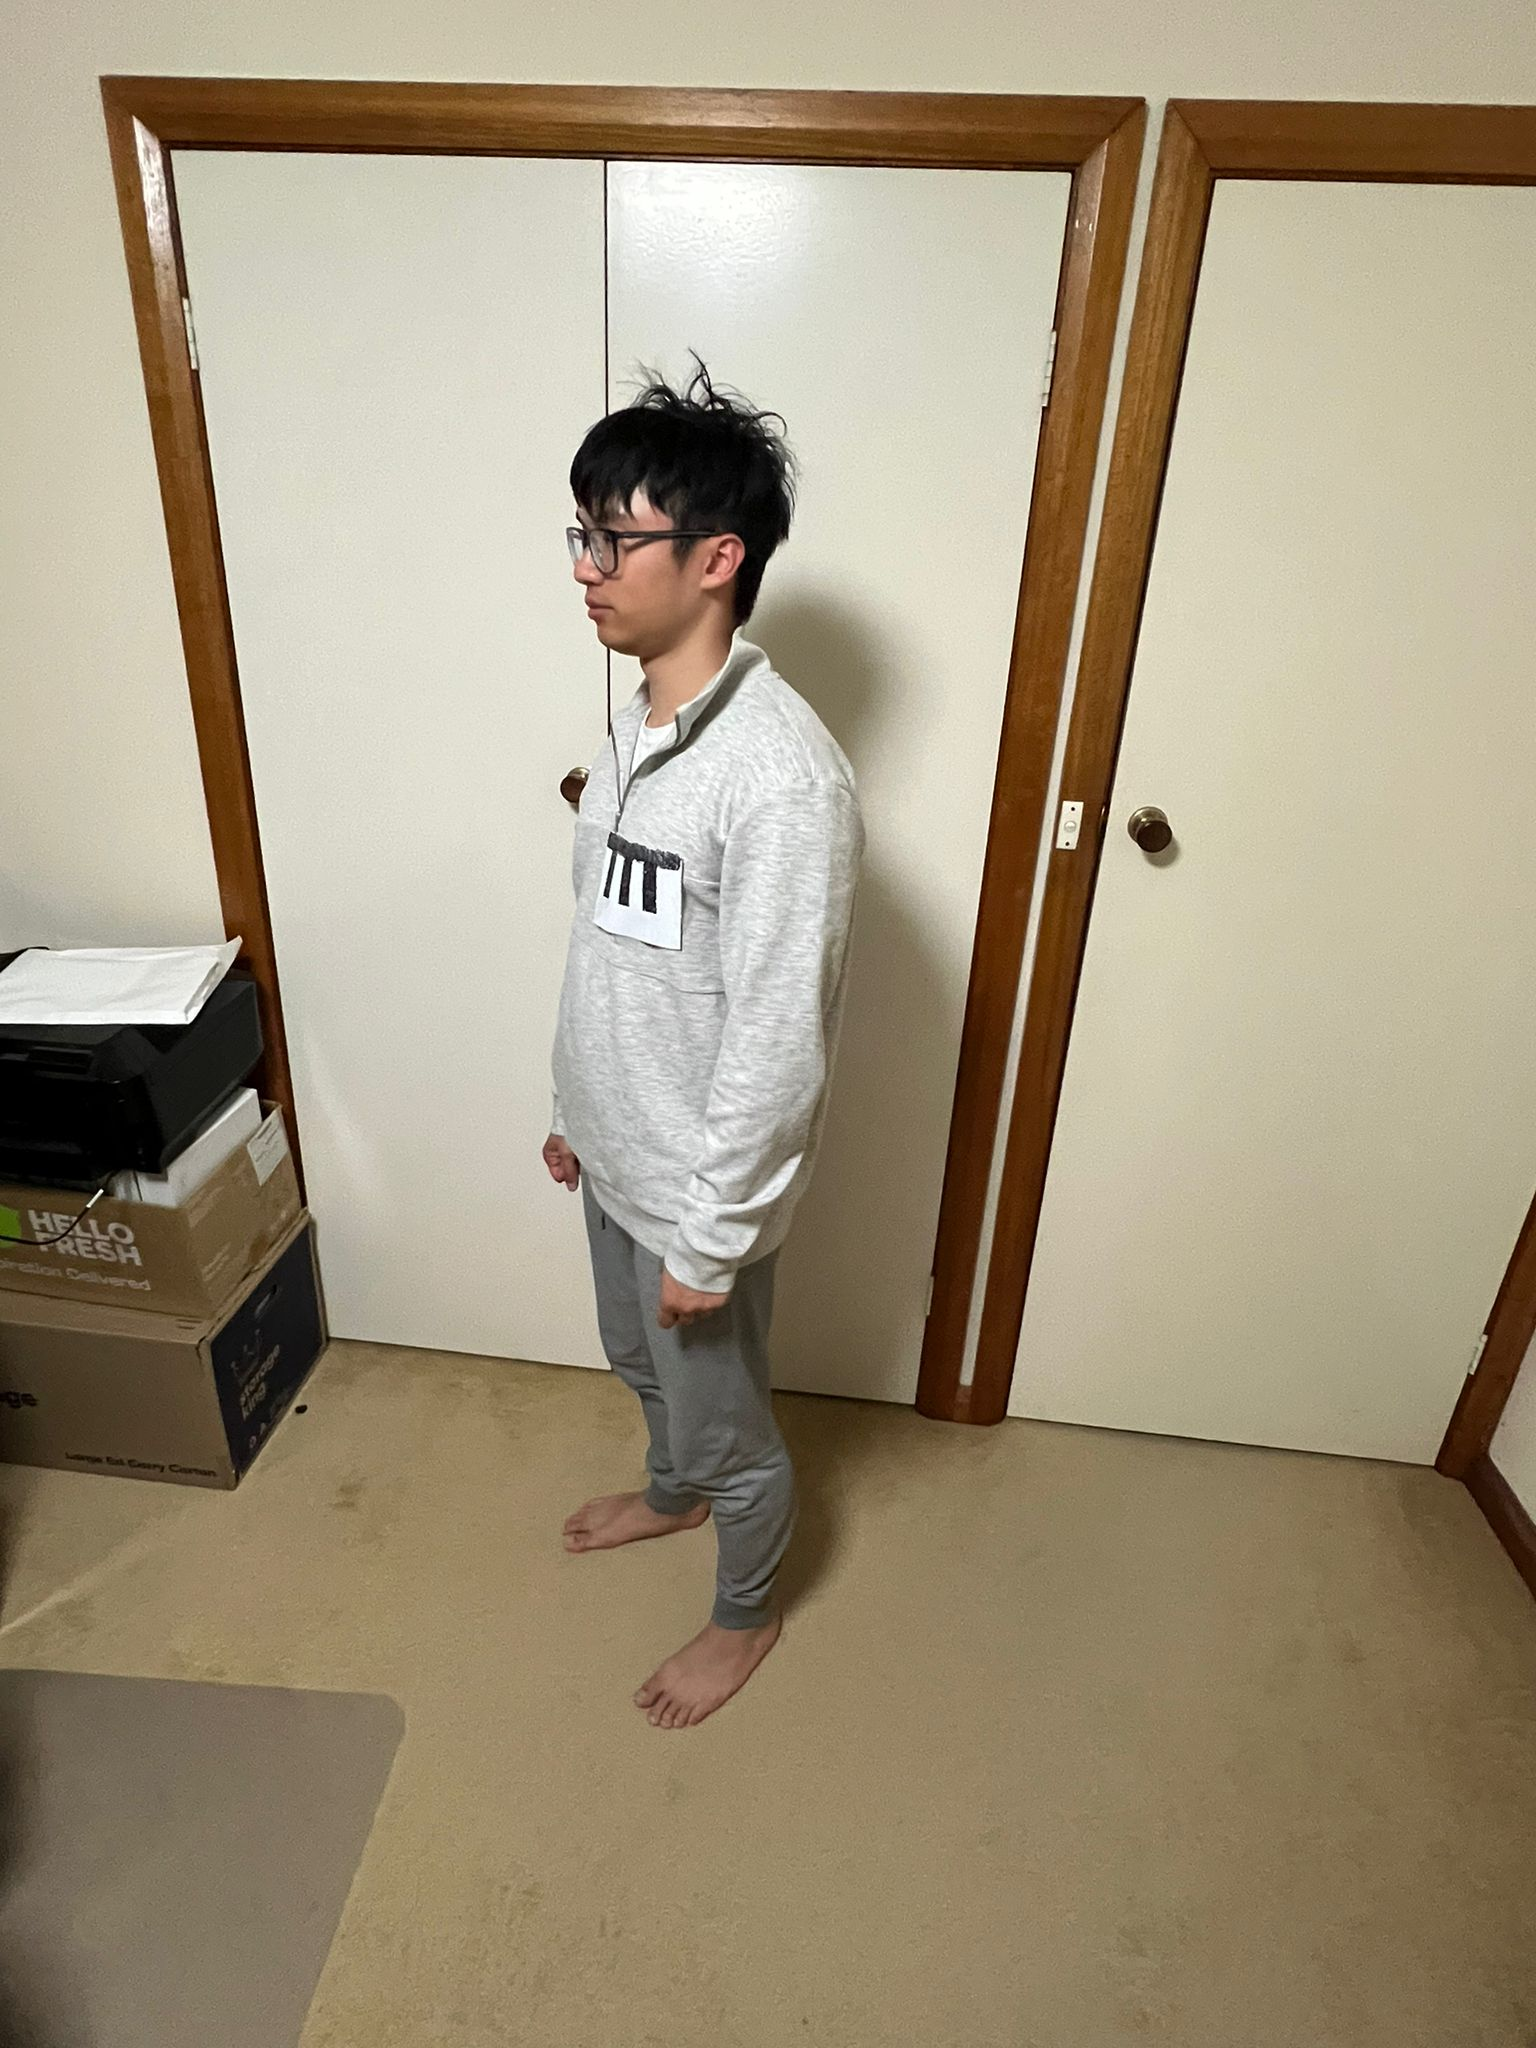Staff: (582, 819, 700, 972)
